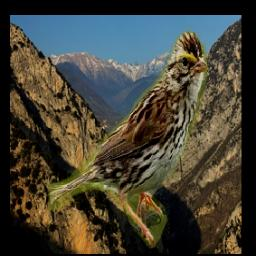Sparrow: (46, 24, 207, 249)
